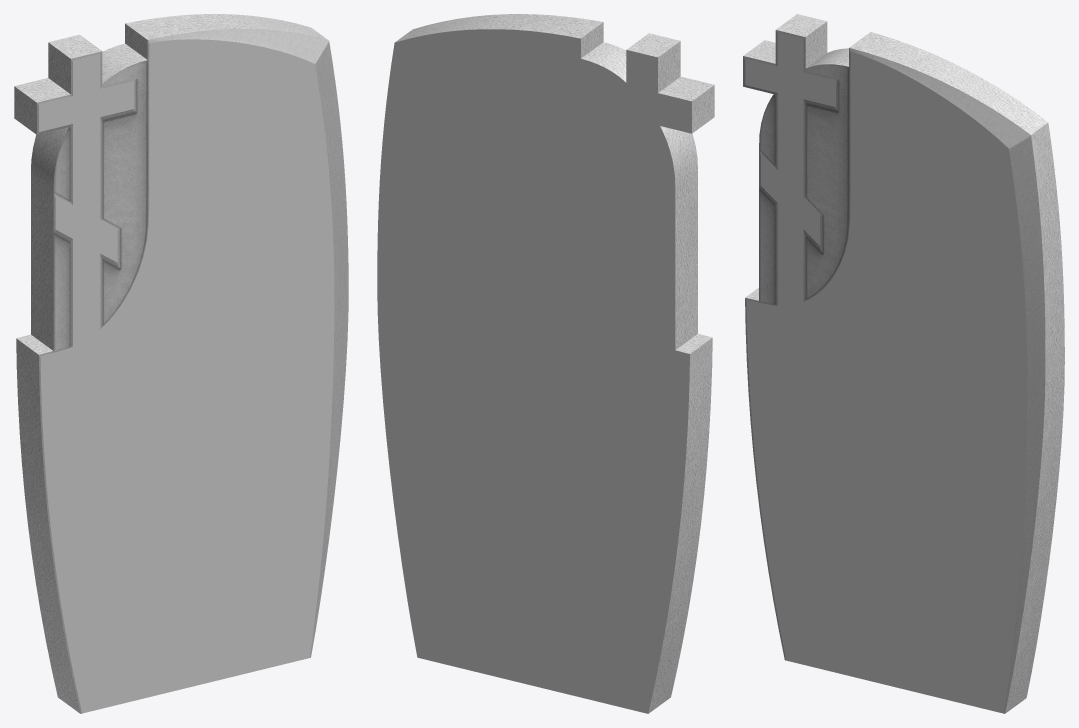
File: cne48393972d_tkf.glb
3 renders of one model, left to right at view 1: azimuth 30°, elevation 25°; view 2: azimuth 150°, elevation 25°; view 3: azimuth 330°, elevation 25°, orthographic. The views are drawn at different scales.
Visible parts, largest first — view 1: Pam-d03-192, Pam-d03-192_2_notexture; view 2: Pam-d03-192, Pam-d03-192_2_notexture; view 3: Pam-d03-192, Pam-d03-192_2_notexture.
Part boxes in pixels (box(x1,y1,x2,y2)): Pam-d03-192: box(39, 39, 334, 713); Pam-d03-192_2_notexture: box(14, 14, 348, 713); Pam-d03-192: box(377, 29, 691, 713); Pam-d03-192_2_notexture: box(395, 14, 714, 713); Pam-d03-192: box(745, 32, 1027, 713); Pam-d03-192_2_notexture: box(743, 14, 1064, 713).
Bounding box in the file's own units: 0.4 × 0.8 × 0.05.
Materials: 1 (1 with a texture image).
